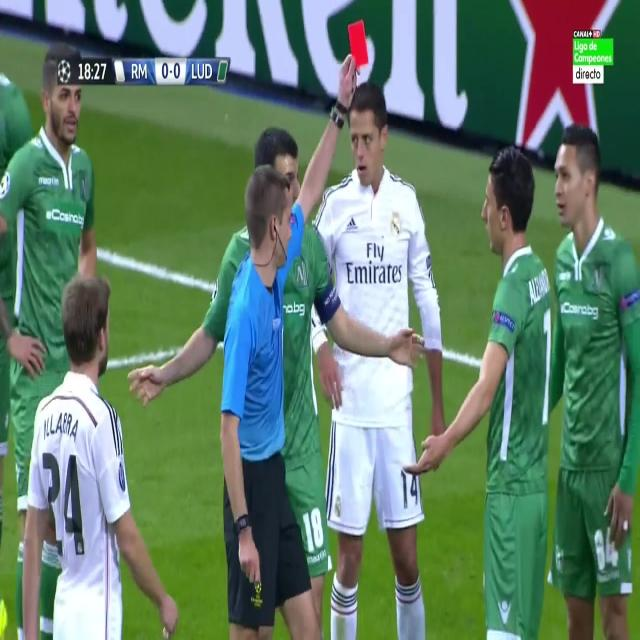Player: (408, 134, 558, 640), (315, 72, 445, 640), (19, 266, 182, 640), (258, 126, 355, 623), (549, 117, 640, 640), (0, 34, 99, 507)
Referee: (219, 55, 355, 640)
